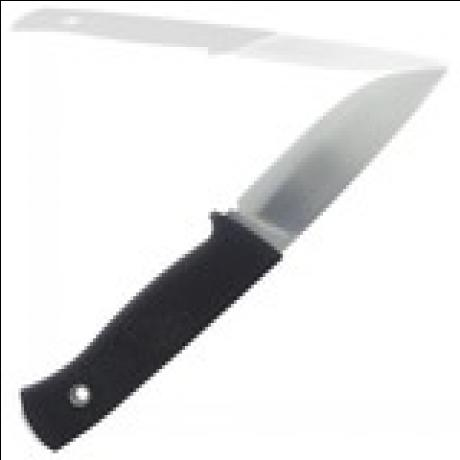weapon: (15, 61, 446, 455)
